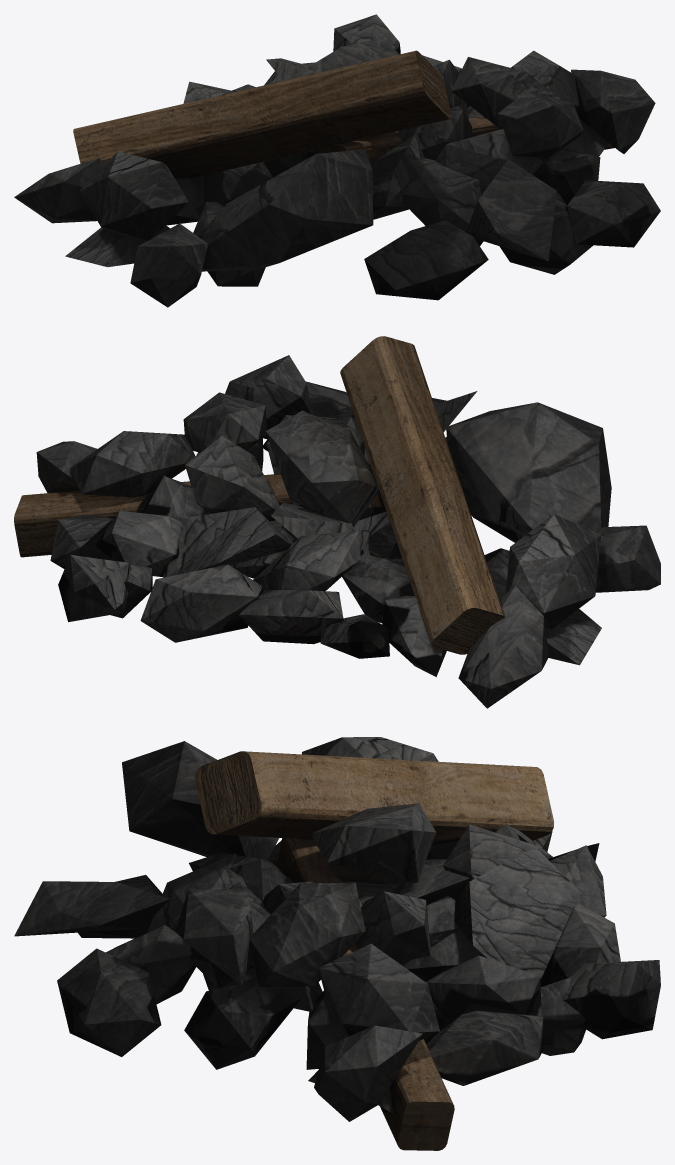
Rendered from obstacle_debris.dae.
3 views of the same model, one above another, from view 1: azimuth 30°, elevation 25°; view 2: azimuth 150°, elevation 25°; view 3: azimuth 270°, elevation 25° (orthographic). The views are drawn at different scales.
Visible parts, largest first — view 1: Debris, WoodSegment1, WoodSegment2; view 2: Debris, WoodSegment1, WoodSegment2; view 3: Debris, WoodSegment1, WoodSegment2.
Boxes of the visible parts, <box> form: Debris: <box>14,14,660,307</box>; WoodSegment1: <box>73,50,451,178</box>; WoodSegment2: <box>314,117,614,163</box>; Debris: <box>36,355,660,708</box>; WoodSegment1: <box>340,336,504,654</box>; WoodSegment2: <box>14,466,386,557</box>; Debris: <box>14,737,660,1121</box>; WoodSegment1: <box>195,751,553,845</box>; WoodSegment2: <box>276,838,454,1150</box>.
Bounding box in the file's own units: 4.71 × 4.09 × 1.75.
3 materials, 3 textured.
